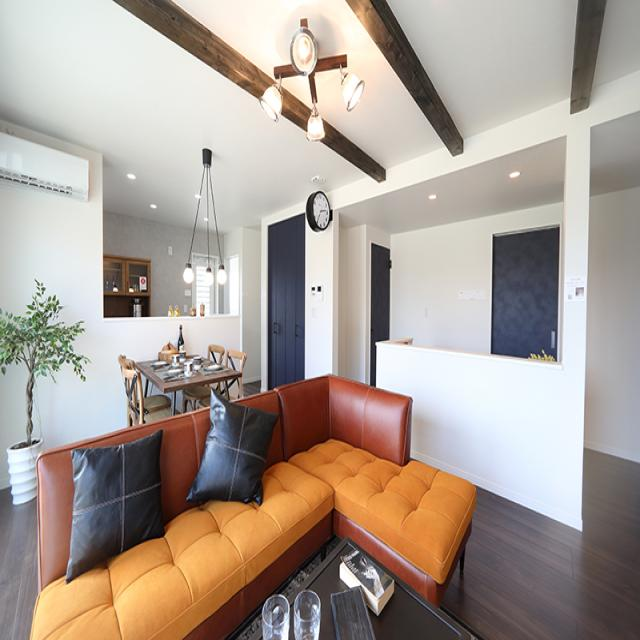vintage chair: (120, 357, 167, 425)
vintage desk: (136, 346, 243, 407)
vintage sofa: (35, 363, 474, 640)
